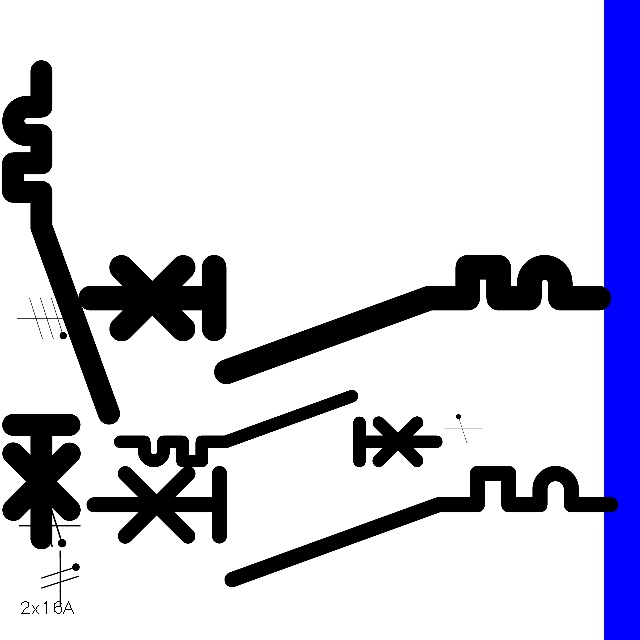interruptor_termomagnetico: (80, 460, 623, 593), (77, 254, 612, 385), (1, 59, 121, 550), (112, 388, 444, 469)
